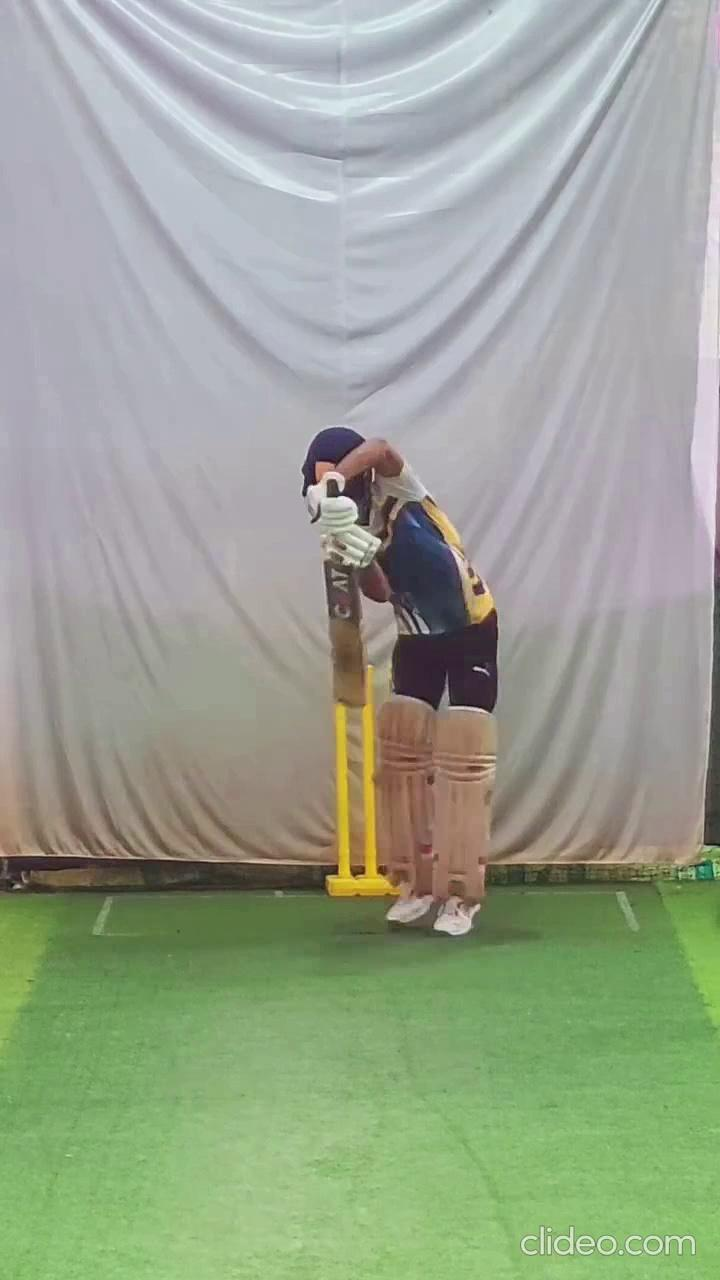bat: (322, 557, 369, 712)
